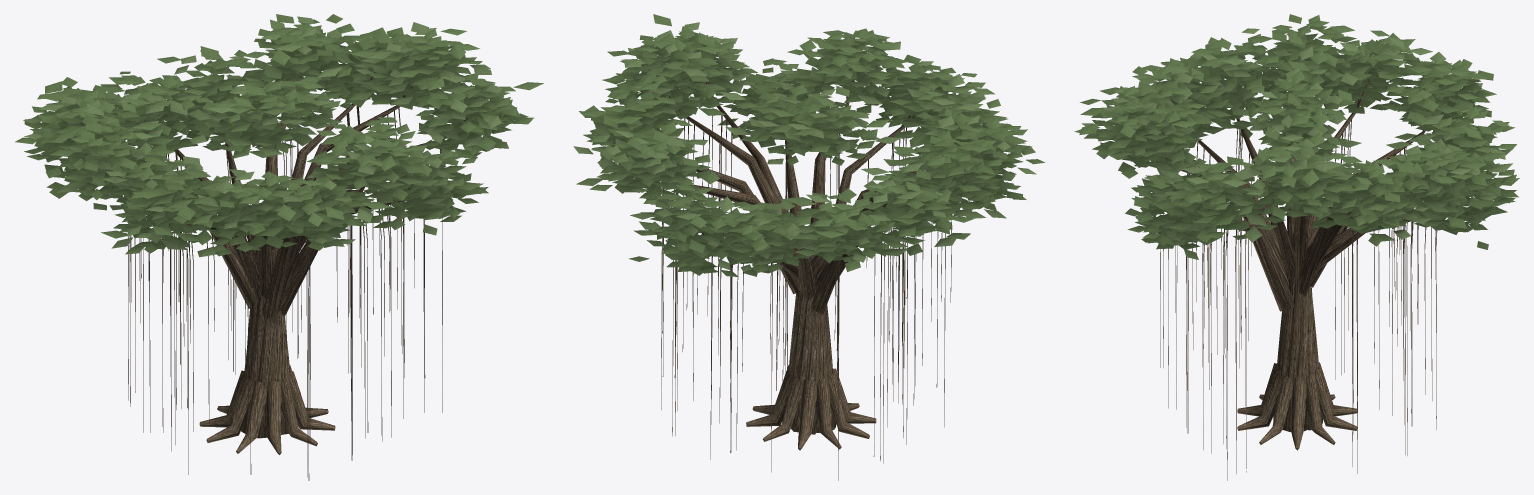
The model's file is prop_banyan_tree_lod1.glb.
3 renders of one model, left to right at view 1: azimuth 30°, elevation 25°; view 2: azimuth 150°, elevation 25°; view 3: azimuth 270°, elevation 25°, orthographic. The views are drawn at different scales.
Visible parts, largest first — view 1: prop_banyan_tree; view 2: prop_banyan_tree; view 3: prop_banyan_tree.
Boxes of the visible parts, <box> form: prop_banyan_tree: <box>15,14,543,480</box>; prop_banyan_tree: <box>573,14,1044,480</box>; prop_banyan_tree: <box>1074,14,1519,480</box>.
Bounding box in the file's own units: 15 × 12 × 14.
3 materials, 3 textured.
